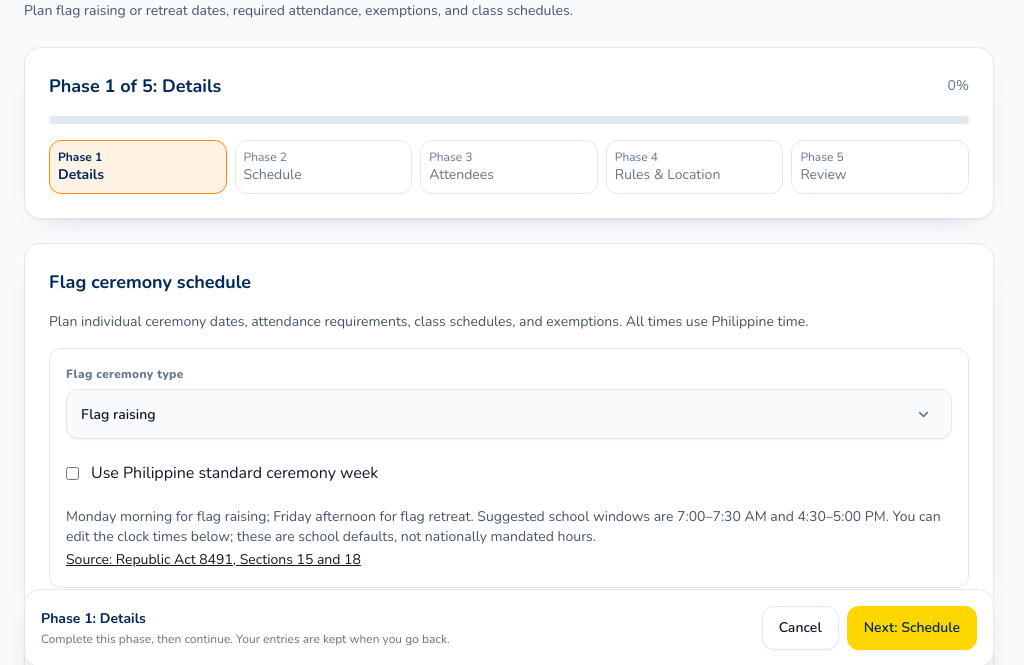
it: sets standard flag retreat to Friday afternoon while keeping school times editable
The width and height of the screenshot is (1024, 665).
Click the checkbox labelled "Use Philippine standard ceremony week": (72,473) [66,466,79,480]
(page scrolled)
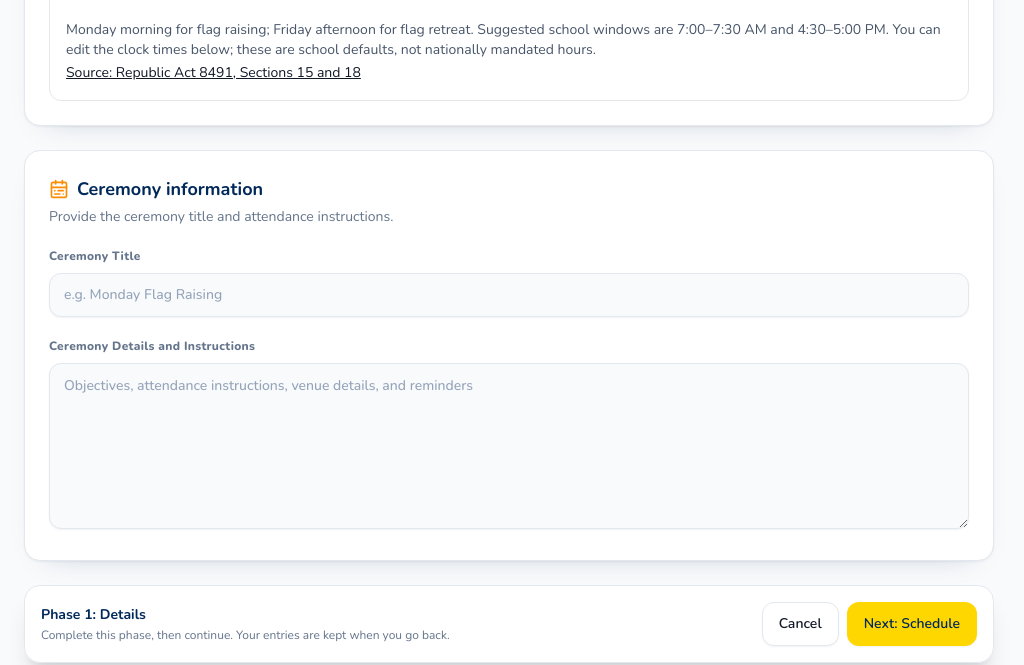
In the field labelled "Ceremony Title": (509,295) [49,273,969,317], type "Flag raising"
Replace the text in the text box labelled "Ceremony Details and Instructions" with "Instructions": (509,446) [49,363,969,529]
Click the button "Next: Schedule": (912,624) [847,602,977,646]
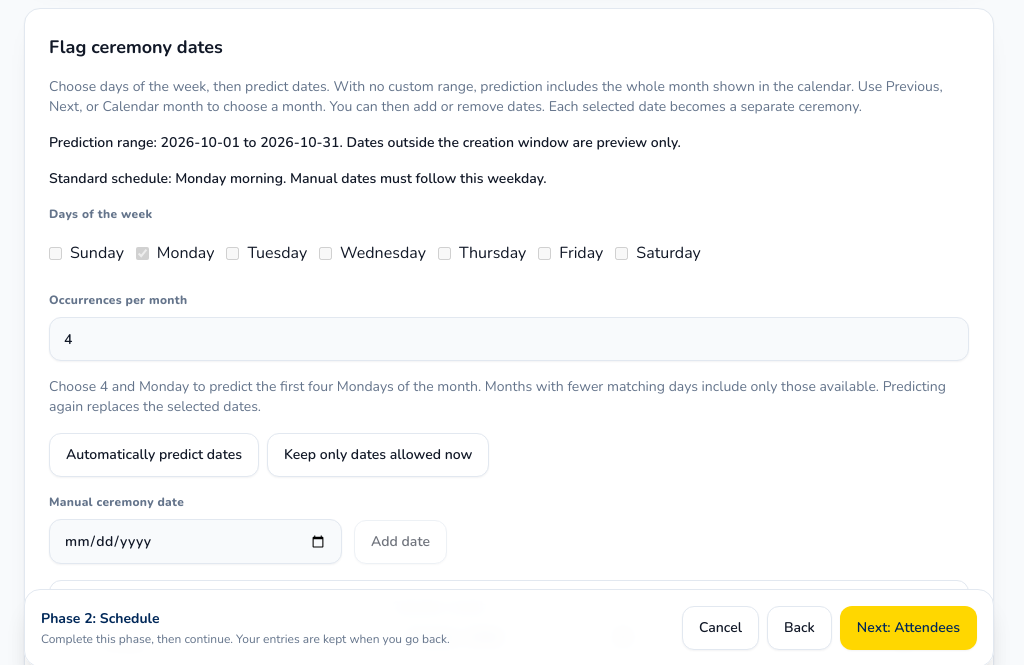
Expected: the checkbox labelled "Monday" is checked, [136,246,149,260]
Expected: the checkbox labelled "Monday" is disabled, [136,246,149,260]
Click the button "Back": (799,628) [767,606,832,650]
(page scrolled)
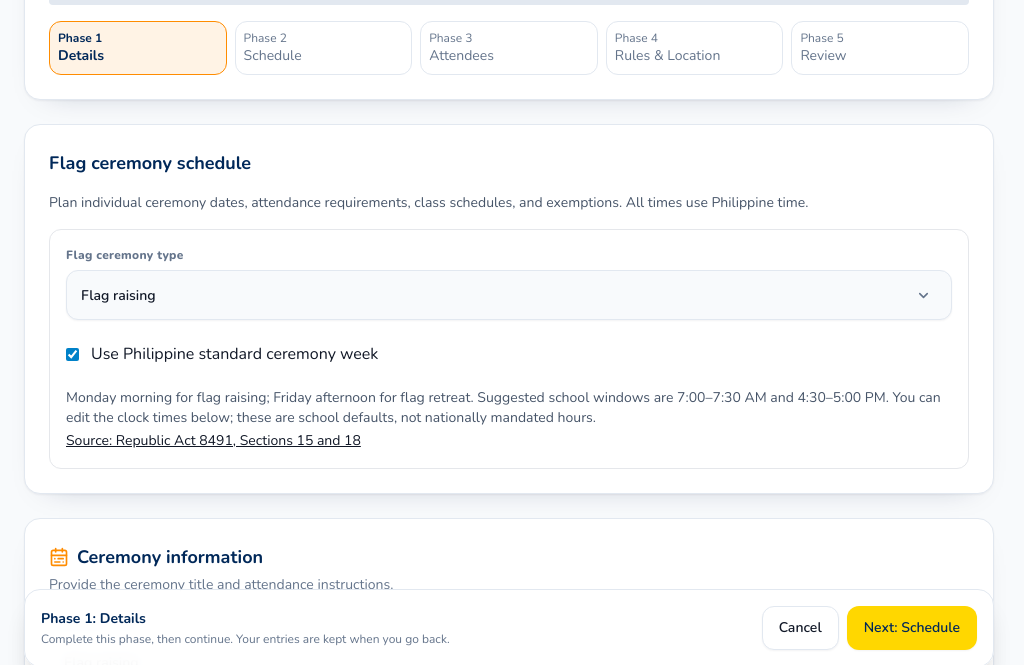
Click the button named "flag ceremony type": (118,295) [66,270,952,320]
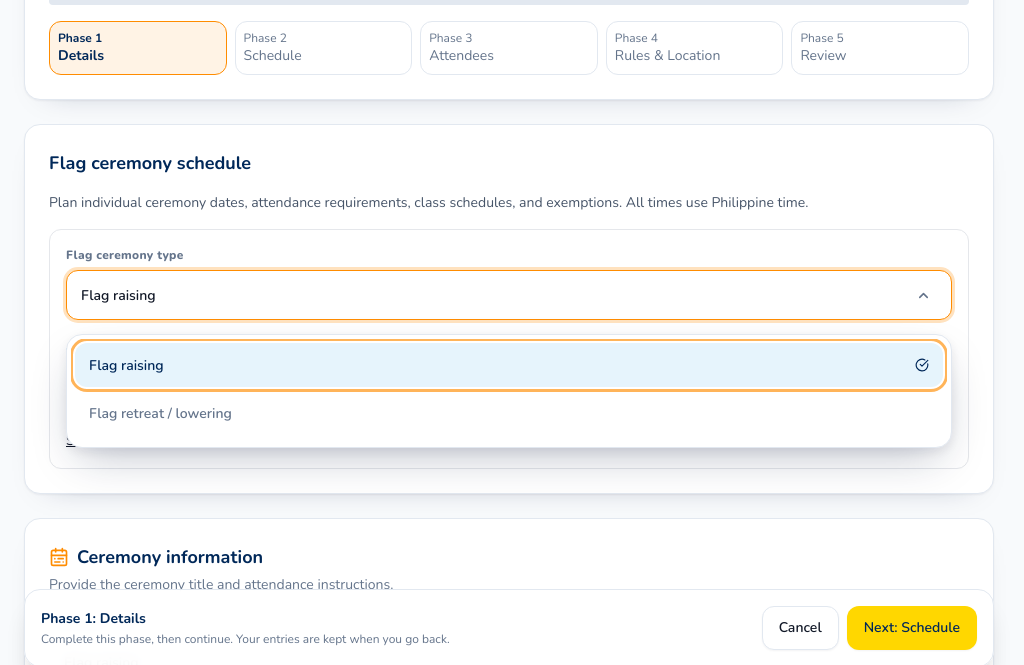
Click the option "Flag retreat / lowering": (160,413) [75,391,943,435]
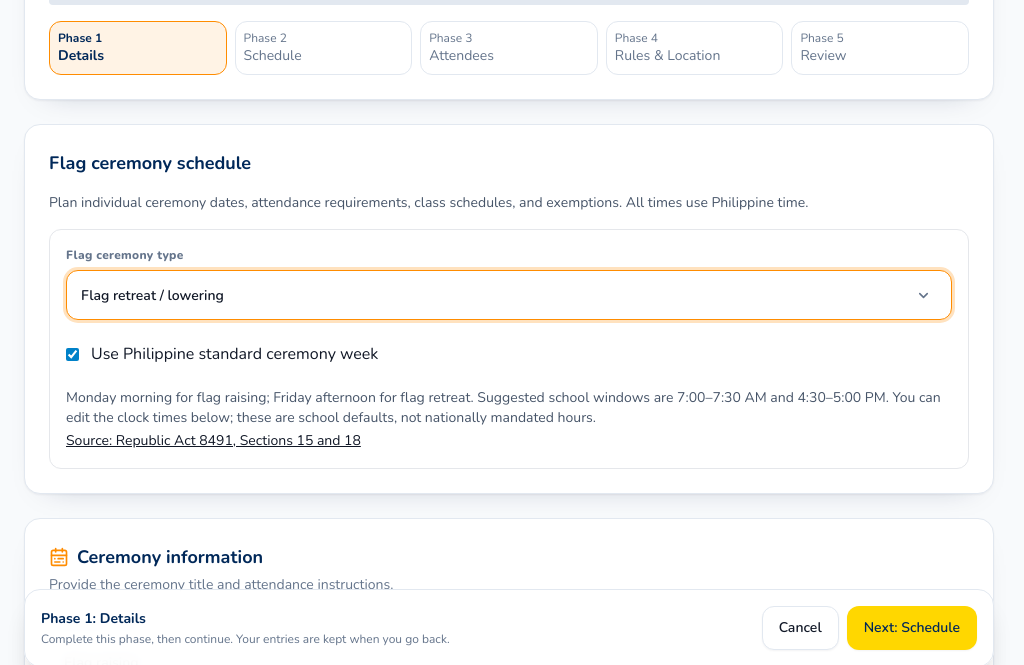
Click the button "Next: Schedule": (912,628) [847,606,977,650]
(page scrolled)
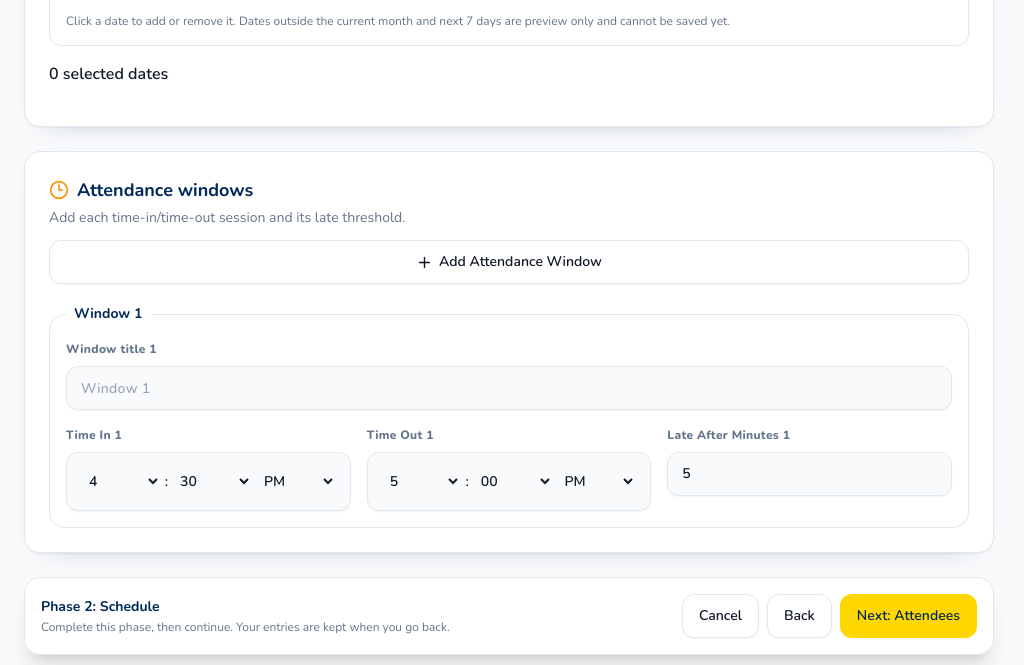
Expected: the dropdown named "Time In 1 hour" is enabled, [81,463,161,500]
